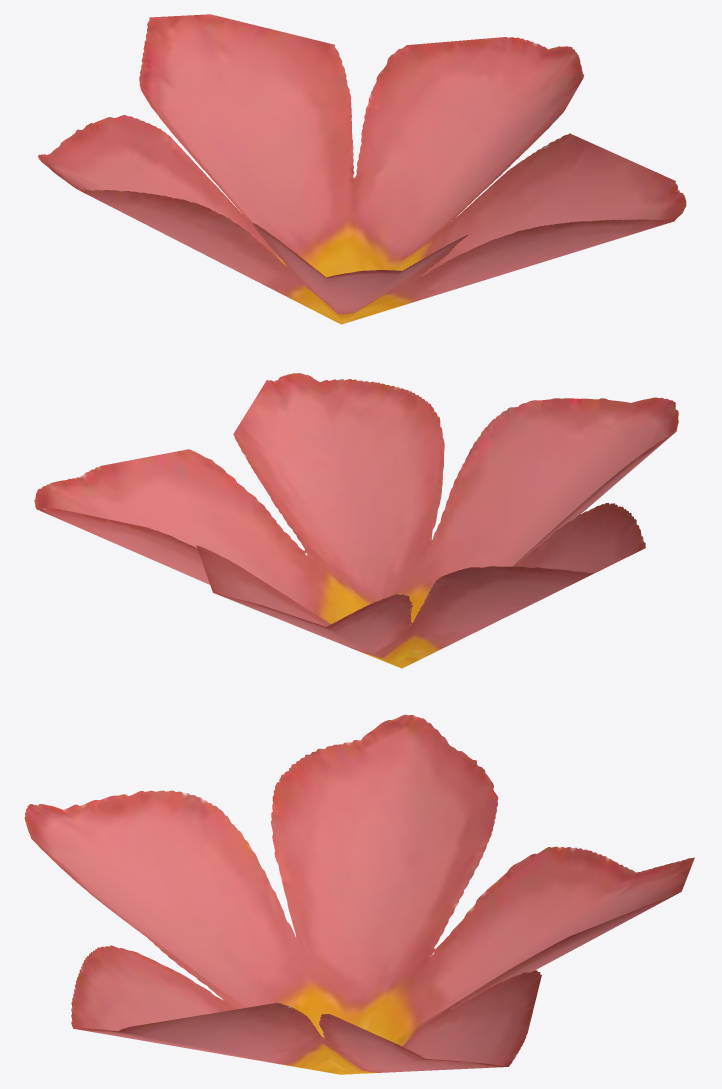
The model's file is Petal_5.glb.
The picture shows the model from 3 angles, top to bottom: view 1: azimuth 30°, elevation 25°; view 2: azimuth 150°, elevation 25°; view 3: azimuth 270°, elevation 25°; orthographic projection. The views are drawn at different scales.
Parts seen in each view (by area): view 1: Petal_5; view 2: Petal_5; view 3: Petal_5.
Boxes of the visible parts, bbox=[...] form: Petal_5: bbox=[38, 14, 686, 324]; Petal_5: bbox=[34, 373, 678, 668]; Petal_5: bbox=[24, 714, 694, 1074].
Bounding box in the file's own units: 0.834 × 0.2887 × 0.7952.
Materials: 1 (1 with a texture image).
